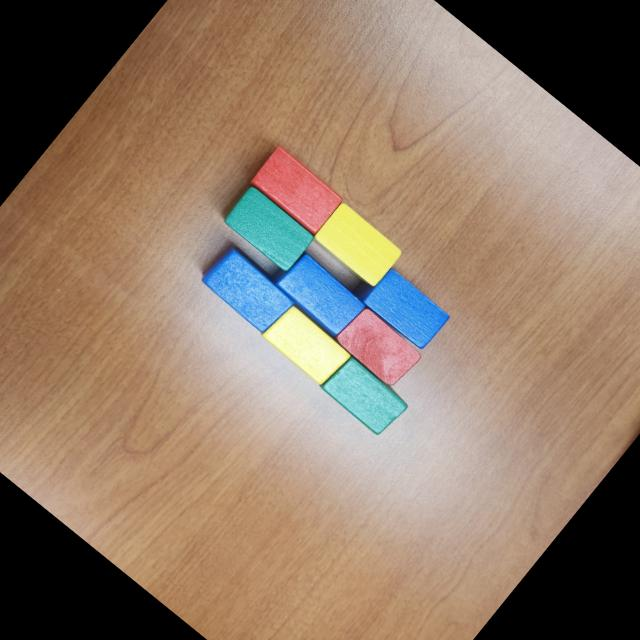blue: (196, 240, 301, 340), (263, 244, 368, 342), (360, 266, 452, 354)
green: (220, 184, 317, 276), (321, 354, 412, 440)
red: (246, 144, 346, 238), (332, 304, 424, 392)
yellow: (260, 302, 352, 389), (312, 202, 404, 288)
